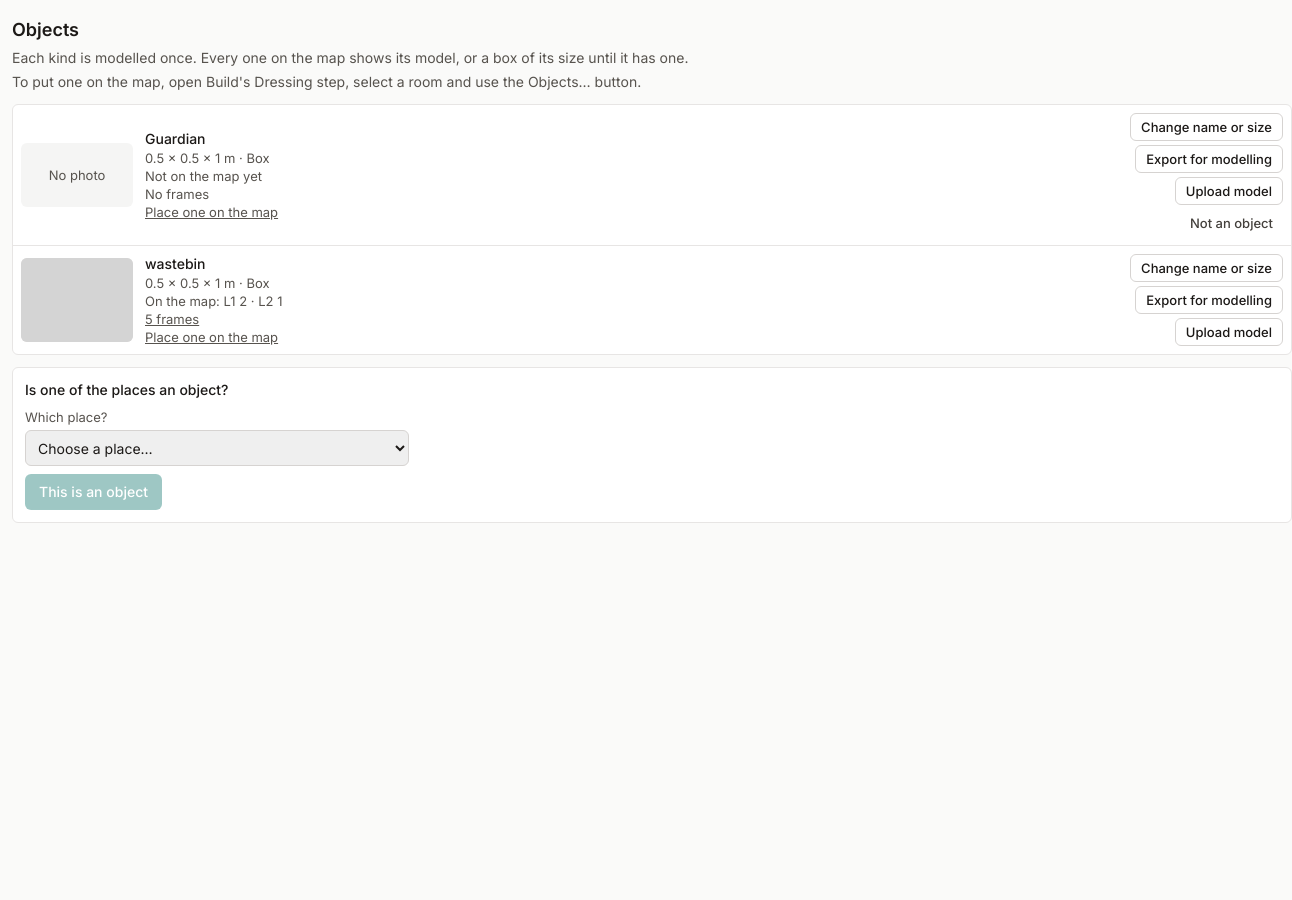
ObjectsSection › starts the kind afresh from the next place chosen
The width and height of the screenshot is (1292, 900).
Select "wast" in the dropdown labelled "Which place?" at (217,448), box [25,430,409,466]
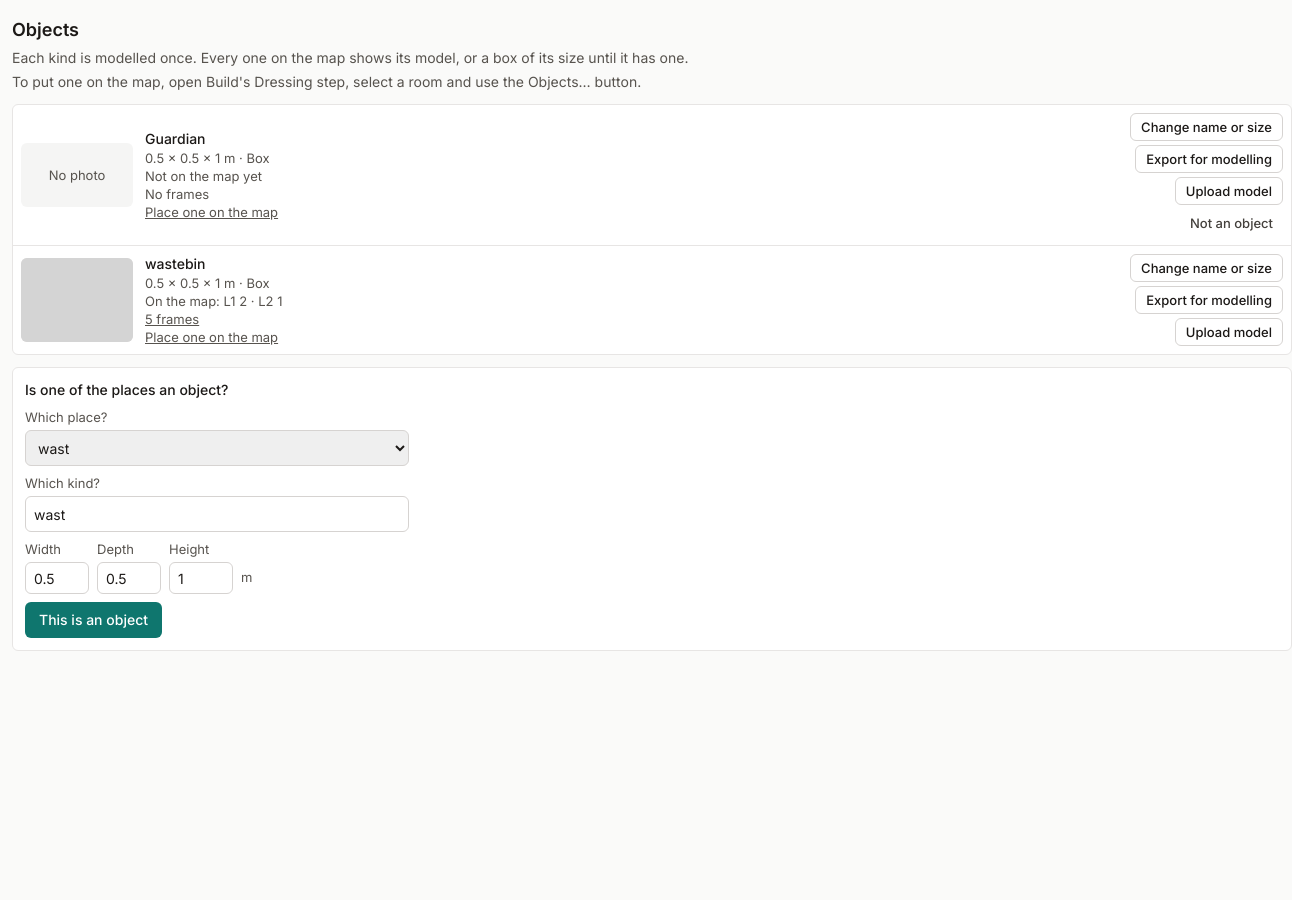
Replace the text in the field labelled "Which kind?" with "wastebin" at (217,514), box [25,496,409,532]
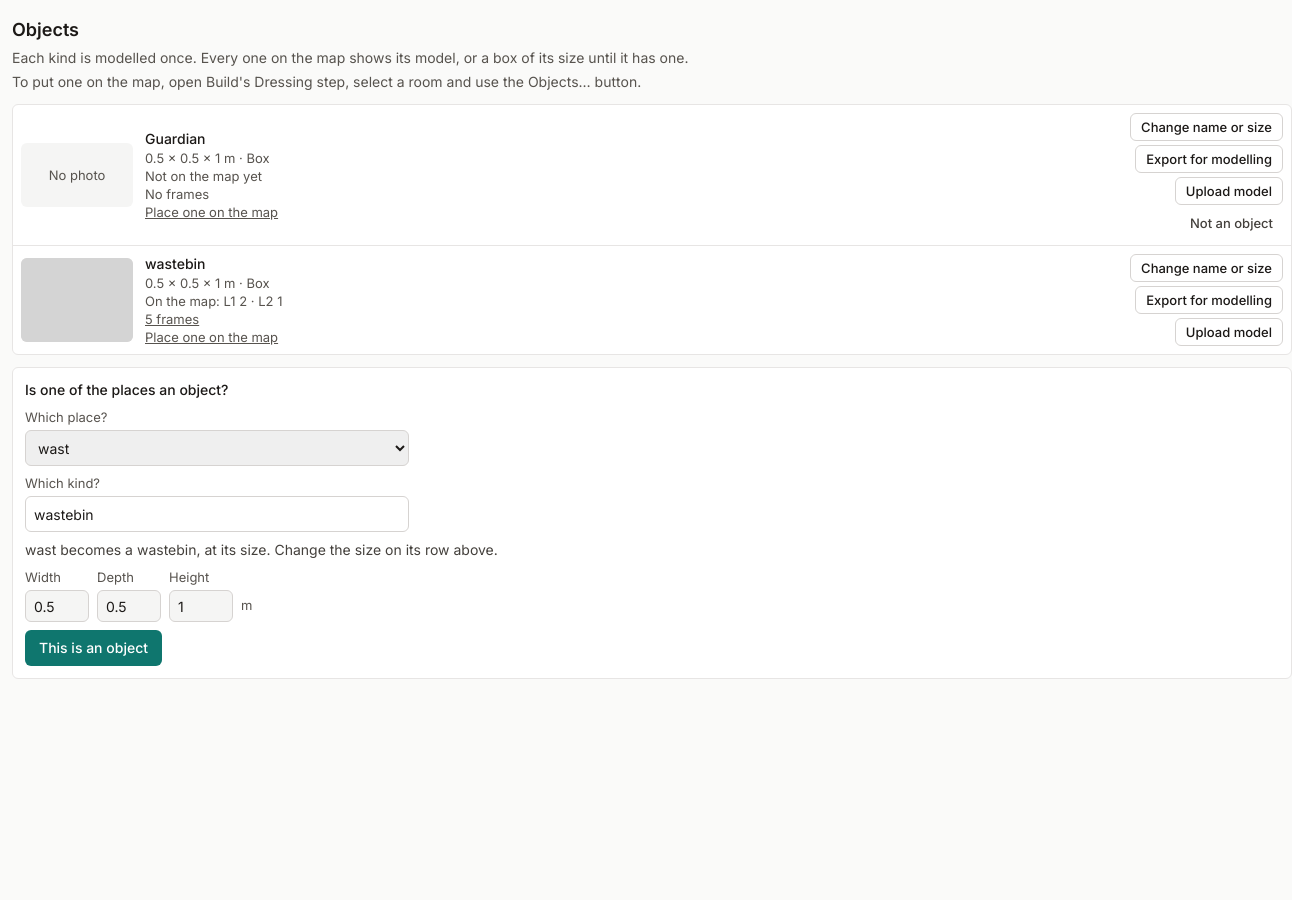
Select "water cooler" in the dropdown labelled "Which place?" at (217,448), box [25,430,409,466]
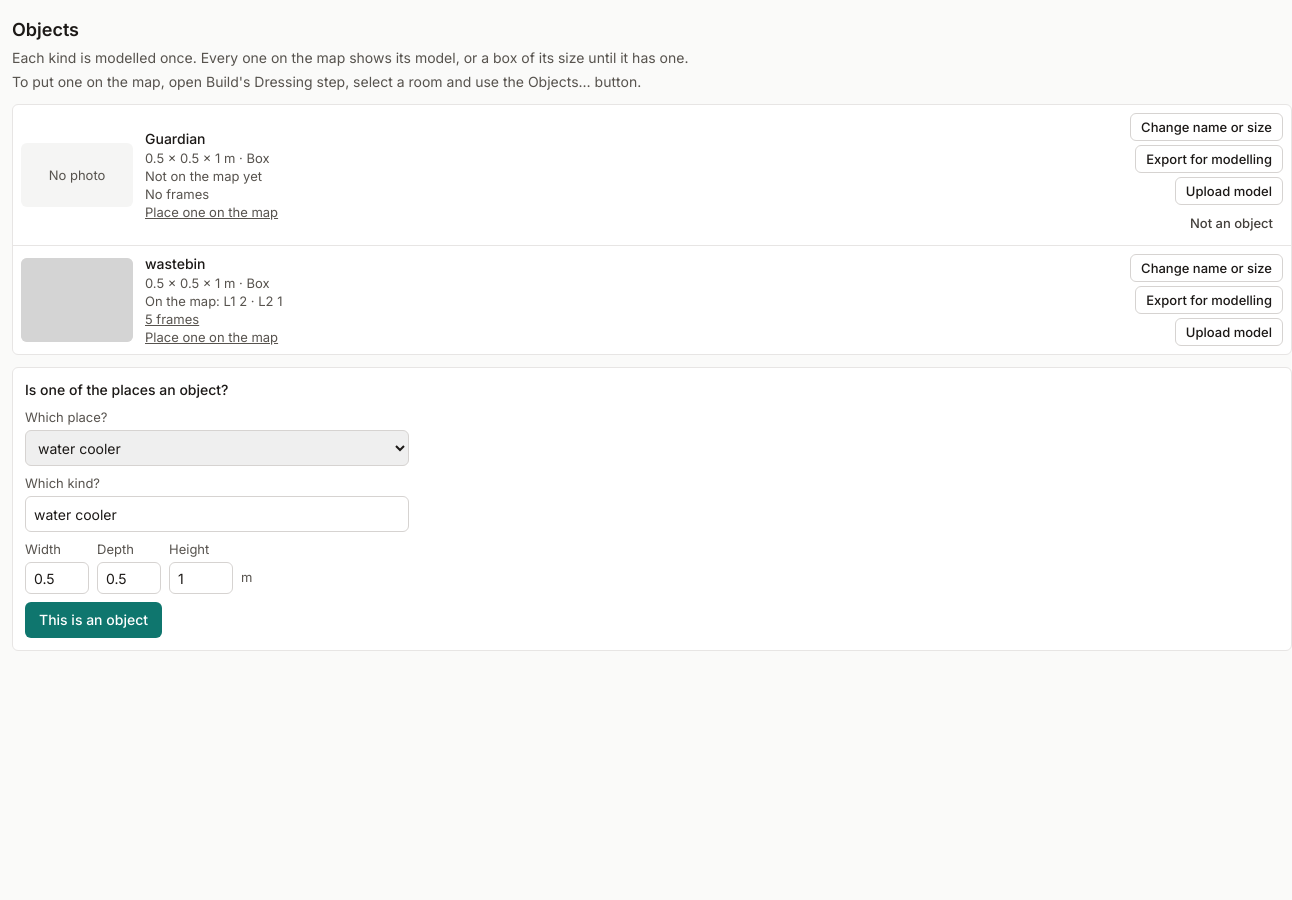
Result: the field labelled "Which kind?" holds "water cooler" at [25,496,409,532]
